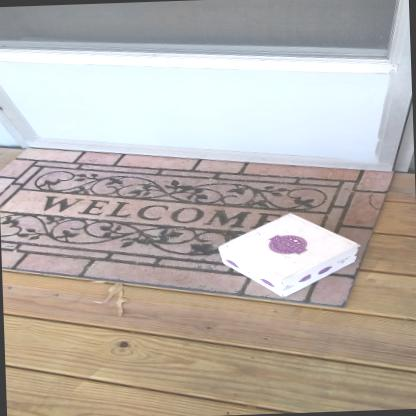box: (218, 211, 360, 297)
